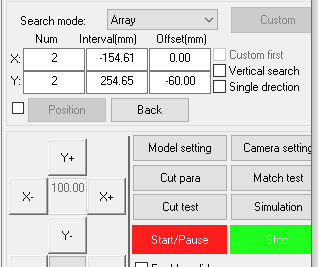start: (132, 224, 227, 254)
timer: (147, 30, 212, 95)
